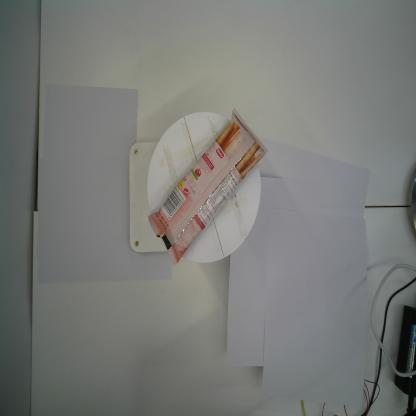Dessert: (146, 106, 268, 266)
